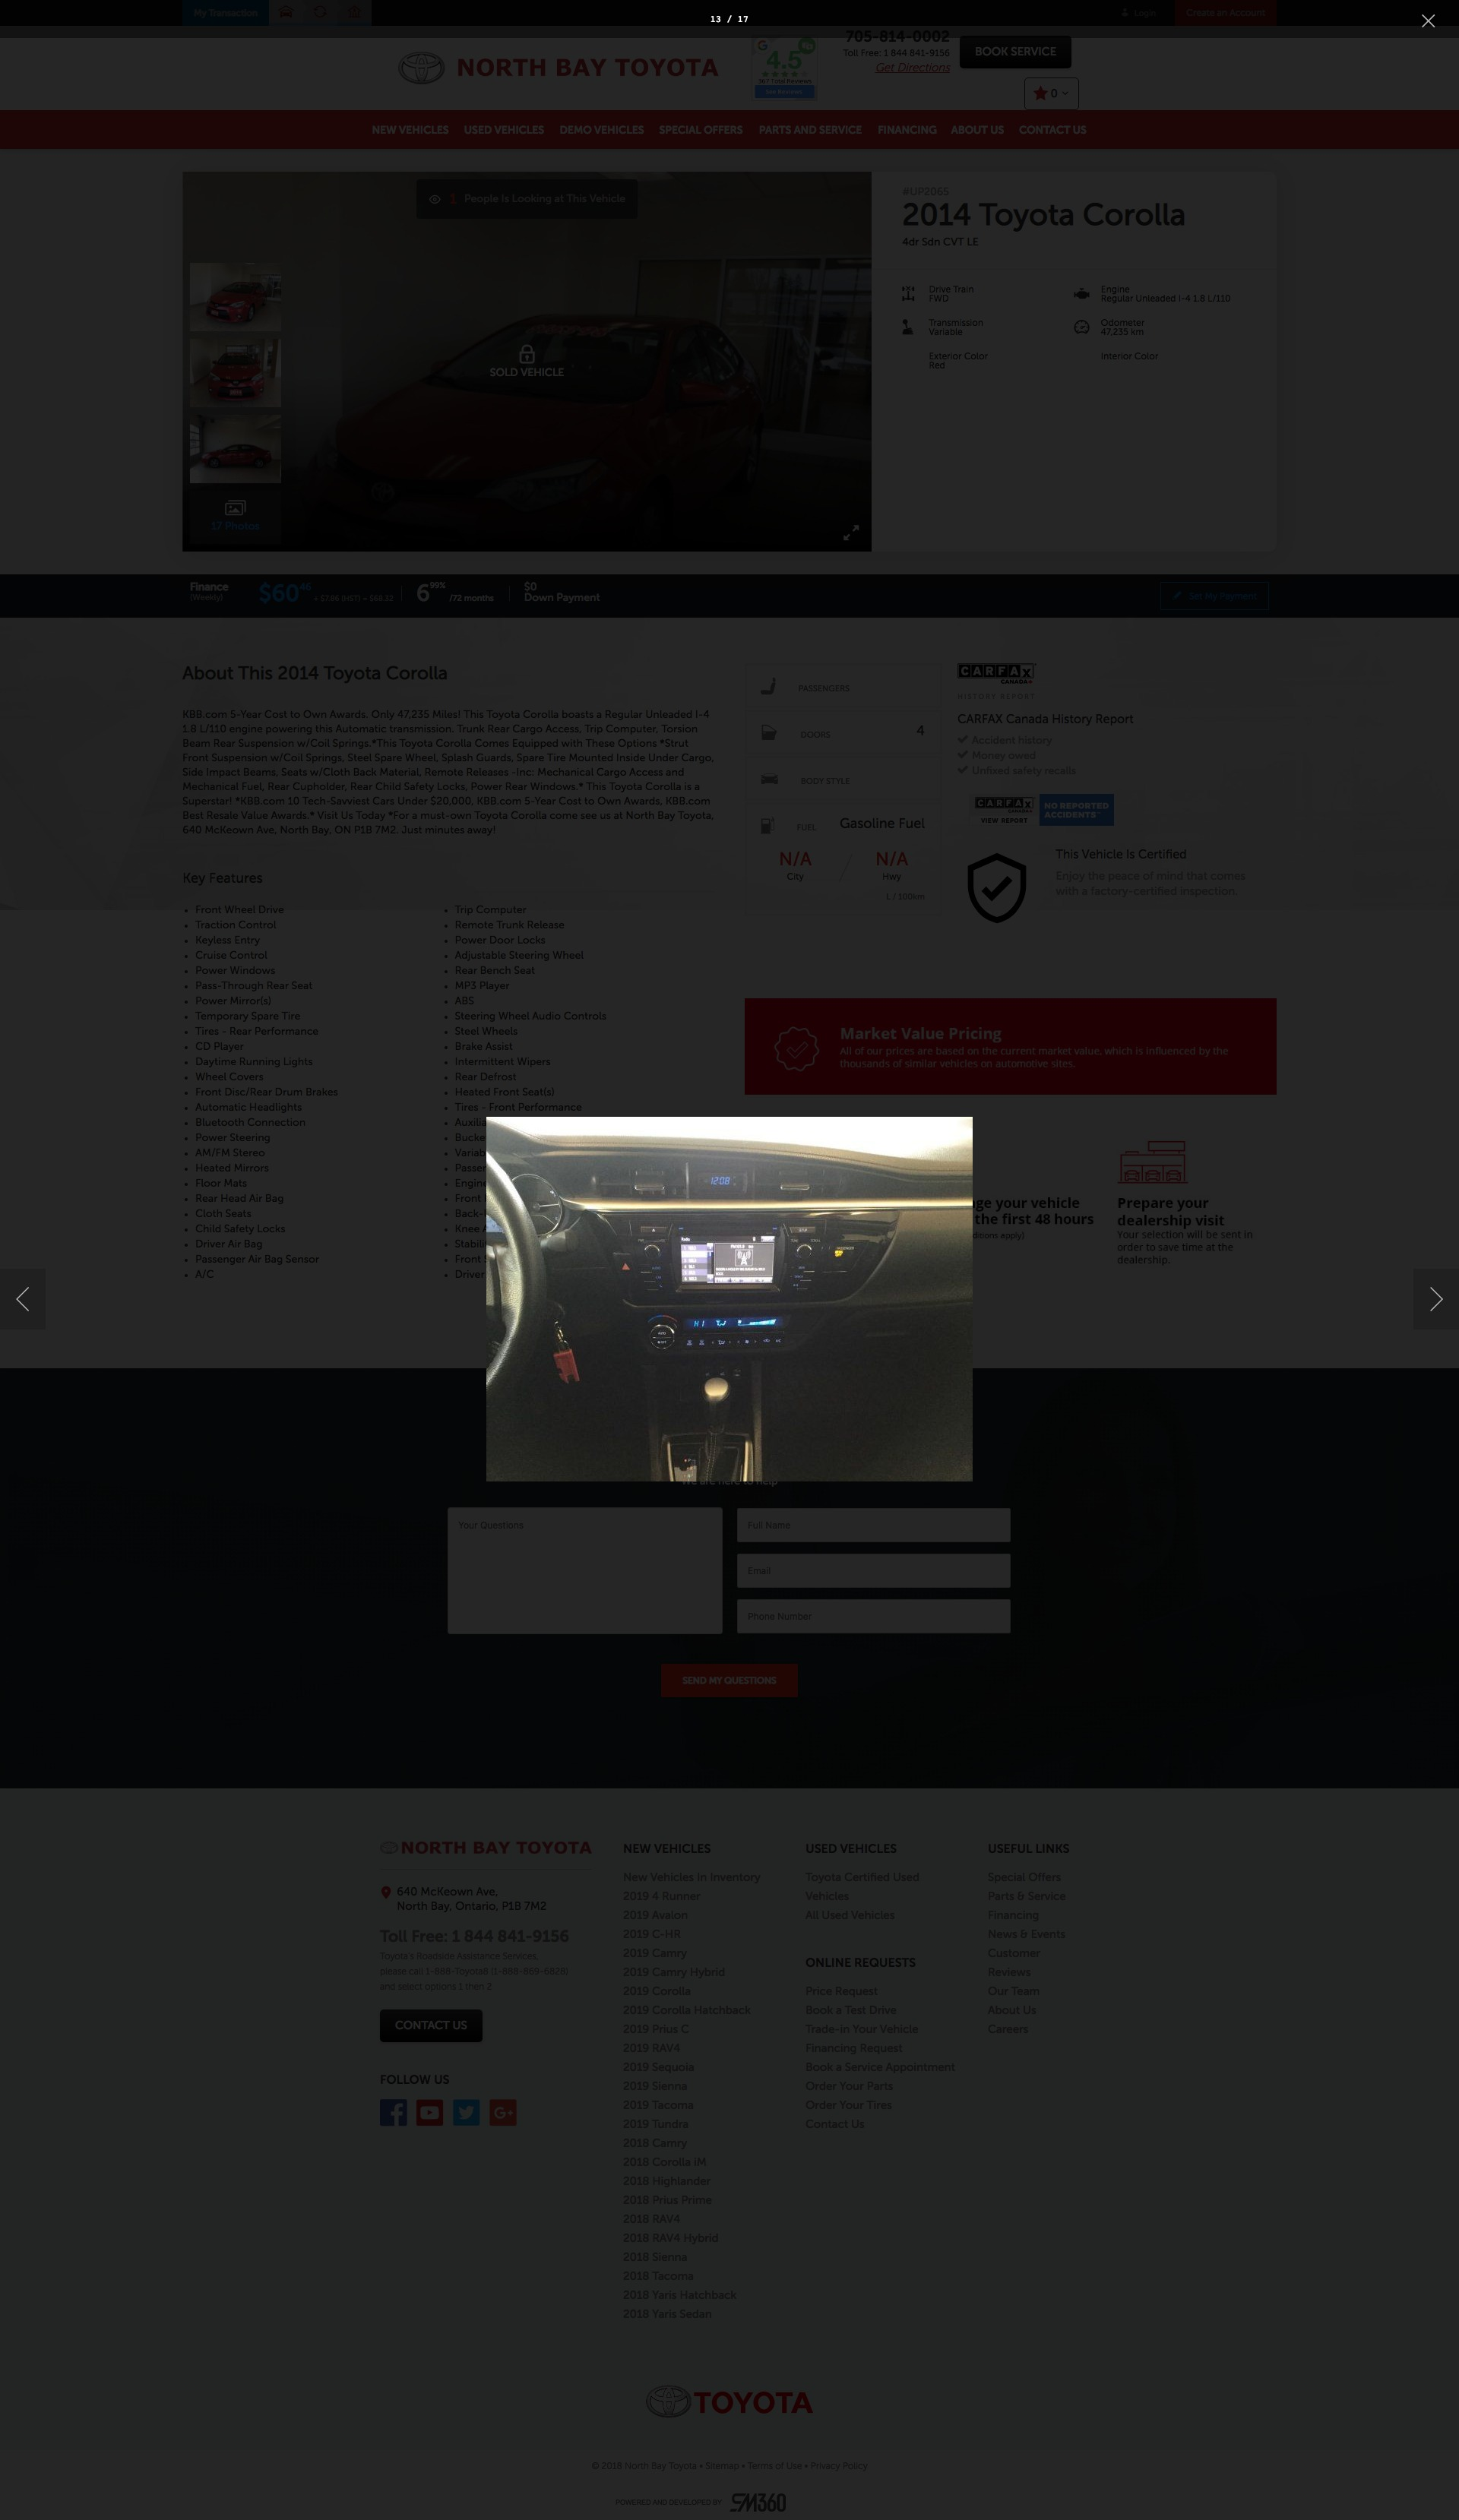car: (1428, 1288, 1445, 1312)
